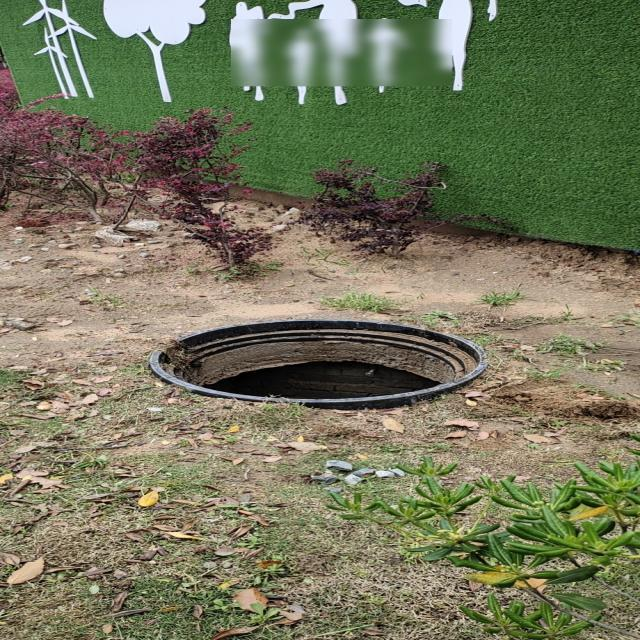Faulty: (140, 316, 488, 408)
